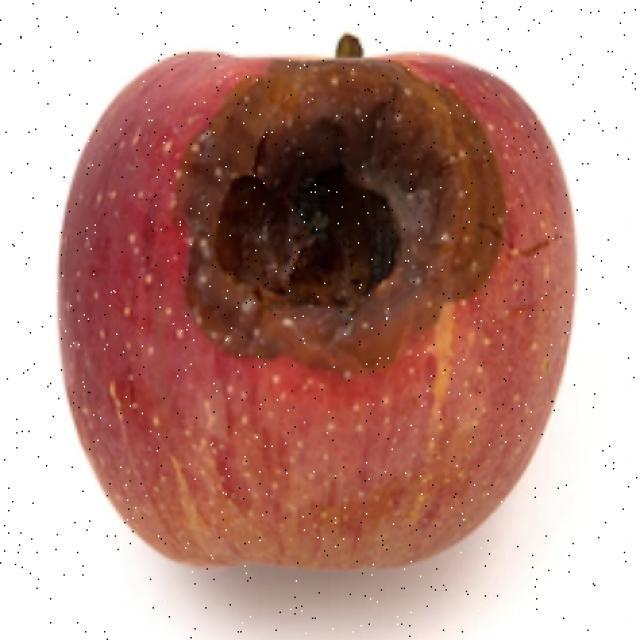Rotten: (71, 58, 546, 582)
